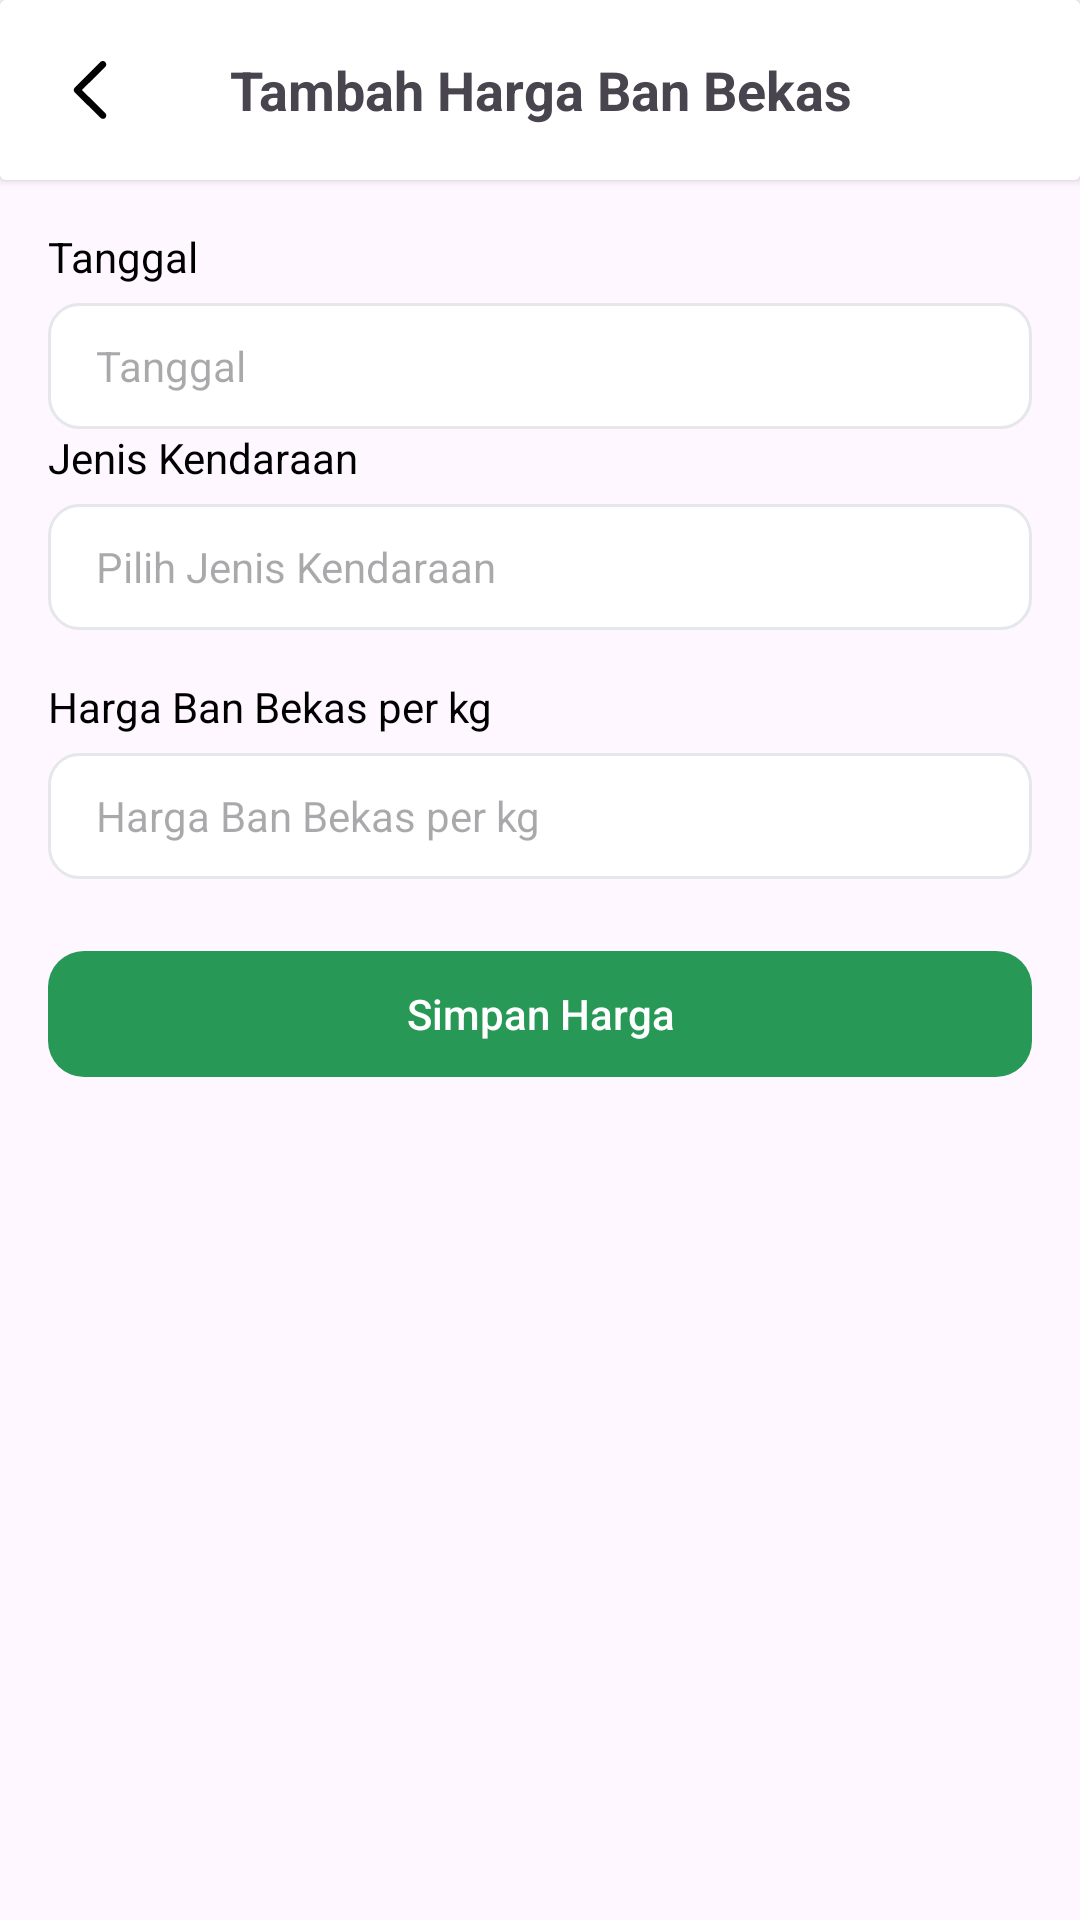

Where icons sit on this 1080 × 1920 app screen, as [x1=x1, y1=y1, x2=x2, y2=y2]:
back: [x1=73, y1=61, x2=107, y2=119]
